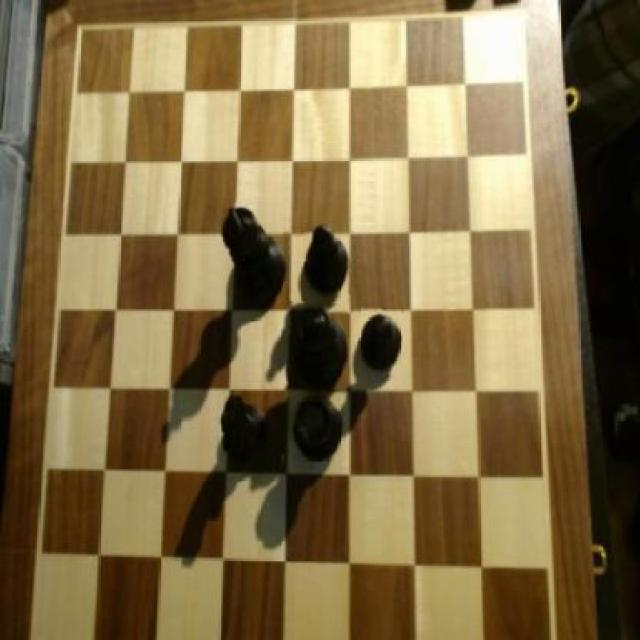bishop: (304, 226, 356, 294)
black-bishop: (222, 203, 292, 309)
black-king: (218, 394, 276, 468)
black-knight: (358, 306, 404, 376)
black-pawn: (286, 302, 351, 398)
black-queen: (289, 388, 347, 466)
